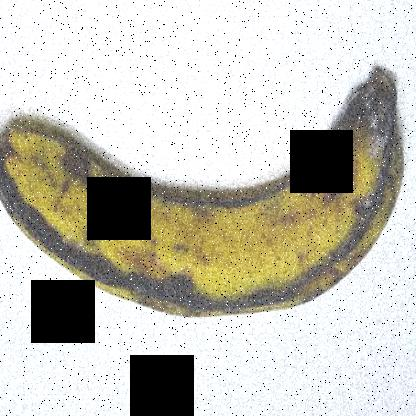overripe: (0, 70, 409, 336)
rotten: (311, 62, 413, 210)
